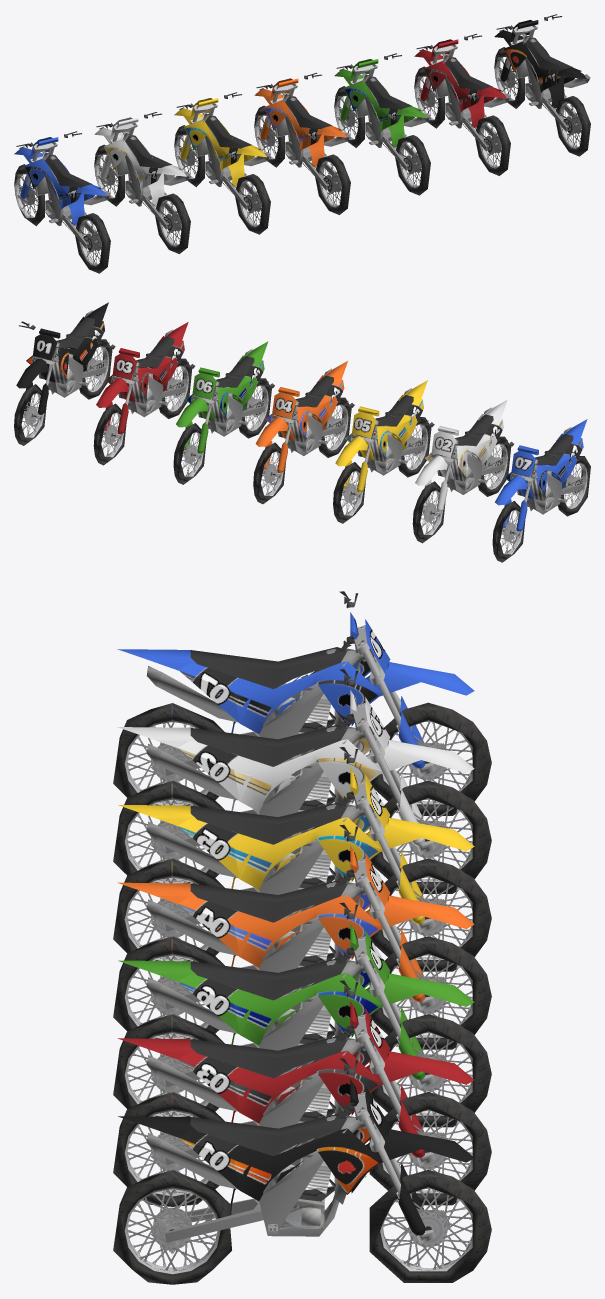
File: prop_moto.glb
3 renders of one model, top to bottom at view 1: azimuth 30°, elevation 25°; view 2: azimuth 150°, elevation 25°; view 3: azimuth 270°, elevation 25°, orthographic. The views are drawn at different scales.
Parts seen in each view (by area): view 1: dirt_bike red, dirt_bike orange, dirt_bike white, dirt_bike green, dirt_bike black, dirt_bike yellow, dirt_bikeblue, rear_wheel.003, rear_wheel.007, rear_wheel.004, rear_wheel.006, rear_wheel.002 (+30 smaller); view 2: dirt_bike orange, dirt_bike green, dirt_bike red, dirt_bikeblue, dirt_bike white, dirt_bike black, dirt_bike yellow, throttle.004, throttle.007, throttle.006, throttle.003, throttle.002 (+16 smaller); view 3: dirt_bike black, dirt_bike white, dirt_bike red, dirt_bike yellow, dirt_bike orange, dirt_bikeblue, dirt_bike green, front_wheel.004, rear_wheel.004, front_wheel, front_wheel.003, front_wheel.006 (+25 smaller).
Part boxes in pixels (x1,y1,x2,y2): dirt_bike red: [424, 53, 506, 128]; dirt_bike orange: [264, 92, 346, 167]; dirt_bike white: [104, 131, 186, 206]; dirt_bike green: [344, 73, 426, 147]; dirt_bike black: [504, 34, 586, 108]; dirt_bike yellow: [184, 112, 266, 186]; dirt_bikeblue: [24, 151, 106, 225]; rear_wheel.003: [475, 115, 510, 175]; rear_wheel.007: [235, 174, 270, 234]; rear_wheel.004: [555, 96, 590, 156]; rear_wheel.006: [155, 193, 190, 253]; rear_wheel.002: [395, 135, 430, 195]; dirt_bike orange: [265, 361, 347, 455]; dirt_bike green: [185, 341, 268, 436]; dirt_bike red: [106, 322, 188, 417]; dirt_bikeblue: [504, 419, 587, 514]; dirt_bike white: [425, 399, 507, 494]; dirt_bike black: [26, 302, 108, 397]; dirt_bike yellow: [345, 380, 427, 475]; throttle.004: [16, 321, 83, 388]; throttle.007: [335, 399, 402, 466]; throttle.006: [415, 418, 482, 485]; throttle.003: [96, 341, 163, 407]; throttle.002: [176, 360, 242, 427]; dirt_bike black: [118, 1114, 381, 1236]; dirt_bike white: [117, 725, 381, 839]; dirt_bike red: [117, 1036, 381, 1150]; dirt_bike yellow: [118, 802, 381, 917]; dirt_bike orange: [117, 880, 381, 994]; dirt_bikeblue: [117, 647, 381, 761]; dirt_bike green: [118, 958, 381, 1072]; front_wheel.004: [369, 1169, 491, 1282]; rear_wheel.004: [113, 1170, 231, 1284]; front_wheel: [369, 936, 491, 1049]; front_wheel.003: [369, 1092, 491, 1205]; front_wheel.006: [369, 780, 491, 893].
Size of the model in its own units: 6.78 by 1.18 by 2.06.
Materials: 7 (7 with a texture image).
